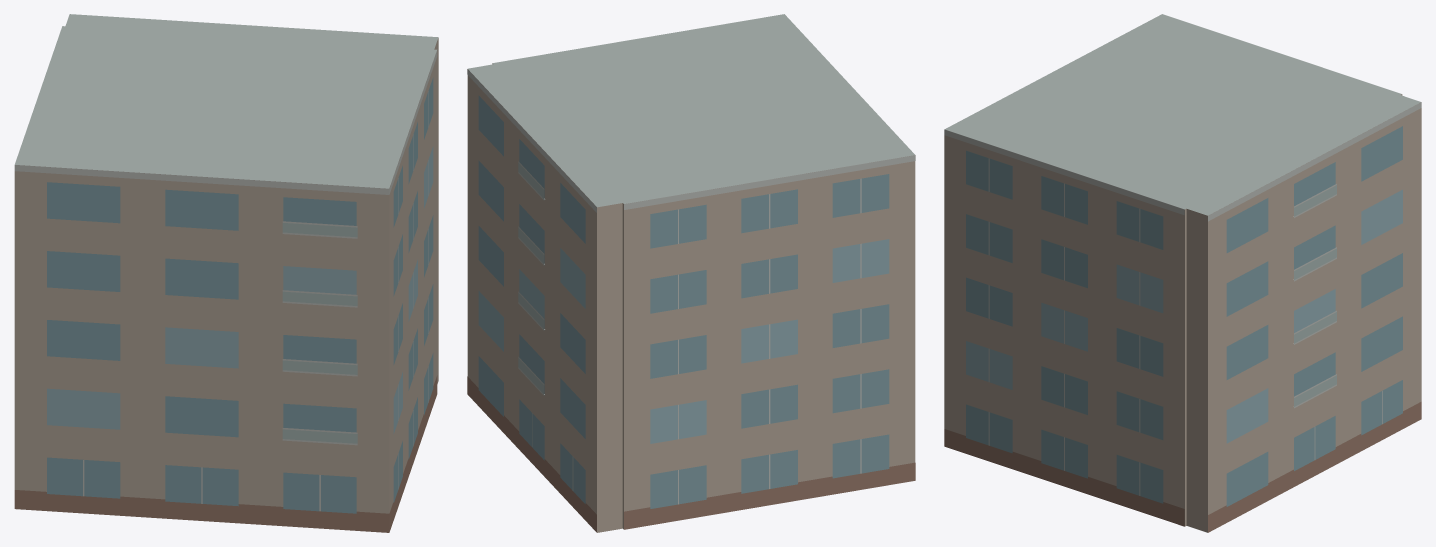
The model's file is survey-upis-32881878.glb.
The picture shows the model from 3 angles, left to right: view 1: azimuth 30°, elevation 25°; view 2: azimuth 150°, elevation 25°; view 3: azimuth 270°, elevation 25°; orthographic projection. The views are drawn at different scales.
Parts seen in each view (by area): view 1: survey-upis-32881878.tmp; view 2: survey-upis-32881878.tmp; view 3: survey-upis-32881878.tmp.
Part boxes in pixels (left/top/right/bottom): survey-upis-32881878.tmp: left=14, top=14, right=438, bottom=532; survey-upis-32881878.tmp: left=467, top=14, right=915, bottom=532; survey-upis-32881878.tmp: left=944, top=14, right=1421, bottom=532.
Size of the model in its own units: 18.02 by 13.2 by 18.
